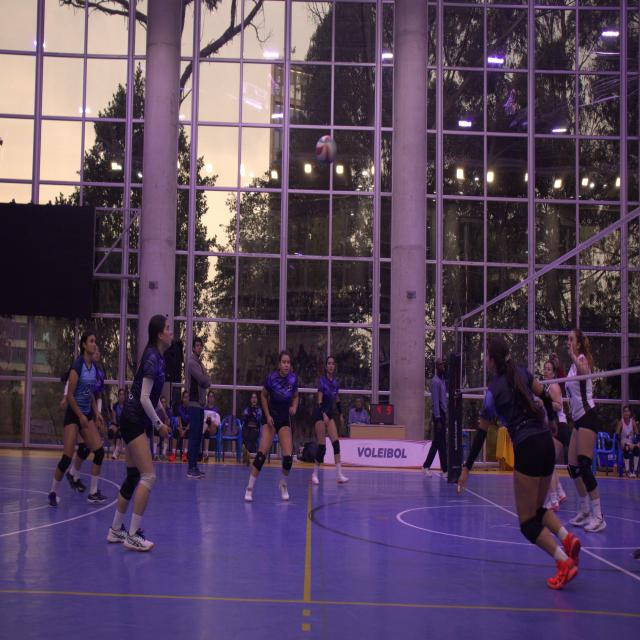volleyball: (317, 136, 336, 166)
